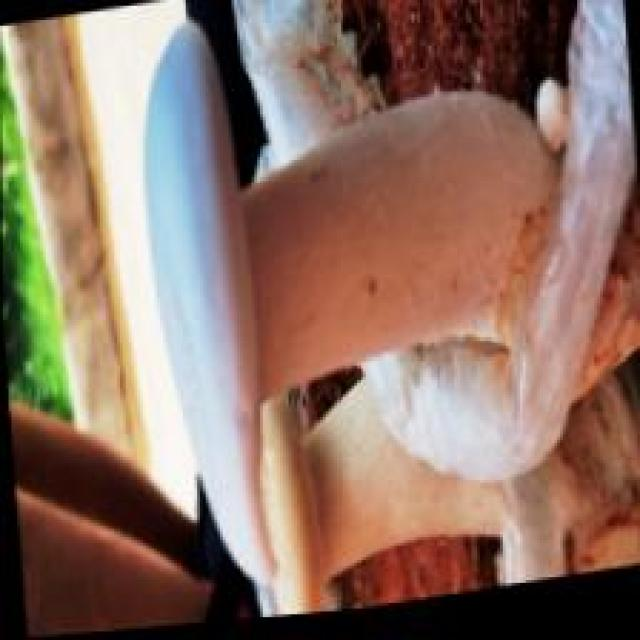death-cap: (140, 0, 637, 614)
